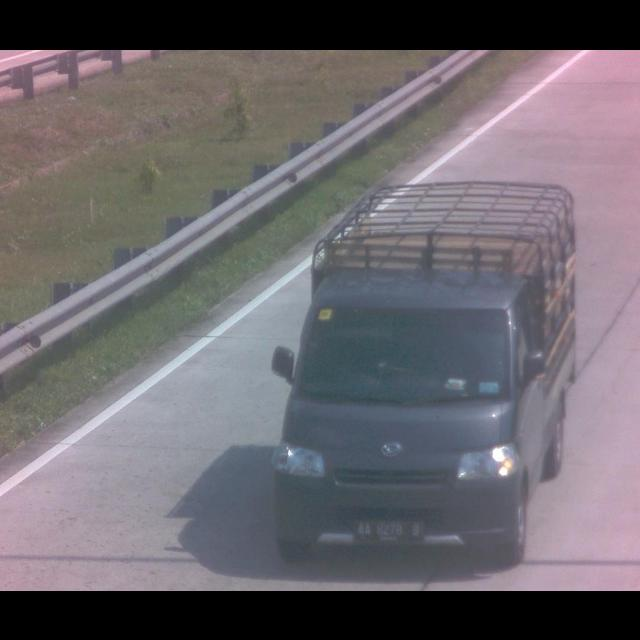plate: (355, 514, 427, 544)
